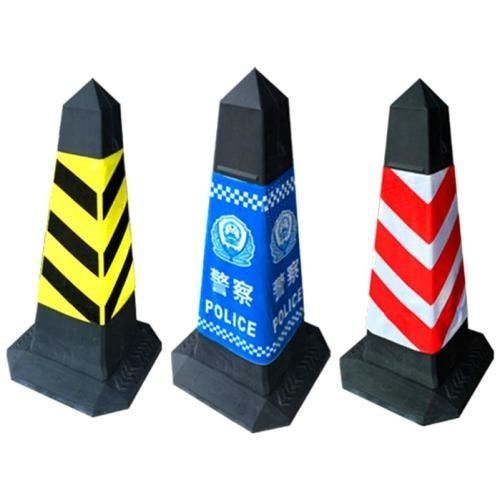cone_barrel: (164, 64, 329, 432), (339, 86, 489, 423), (10, 85, 158, 417)
